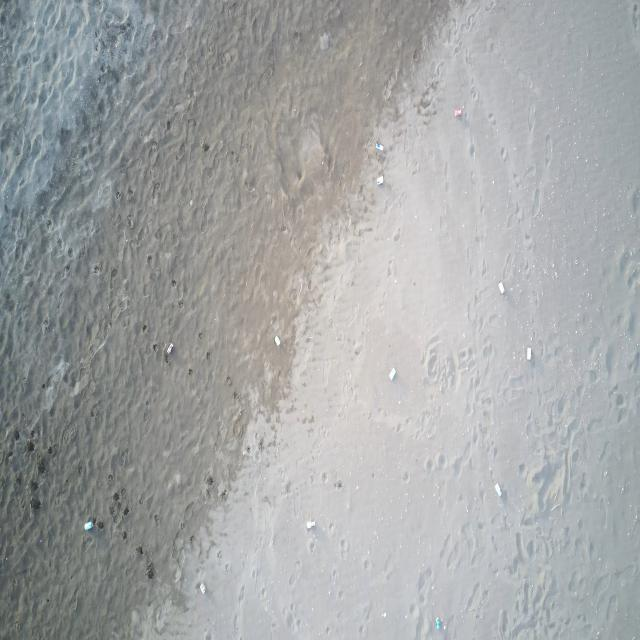Garbage: (144, 560, 154, 579), (320, 32, 329, 49), (435, 616, 443, 630), (452, 107, 462, 118), (83, 520, 92, 531), (388, 367, 395, 380), (497, 280, 504, 293), (493, 483, 500, 495), (375, 141, 383, 151), (273, 335, 280, 346), (307, 520, 315, 529), (526, 347, 531, 360), (166, 343, 172, 353), (375, 176, 383, 183), (199, 583, 204, 593), (96, 520, 103, 527), (380, 611, 385, 616)
